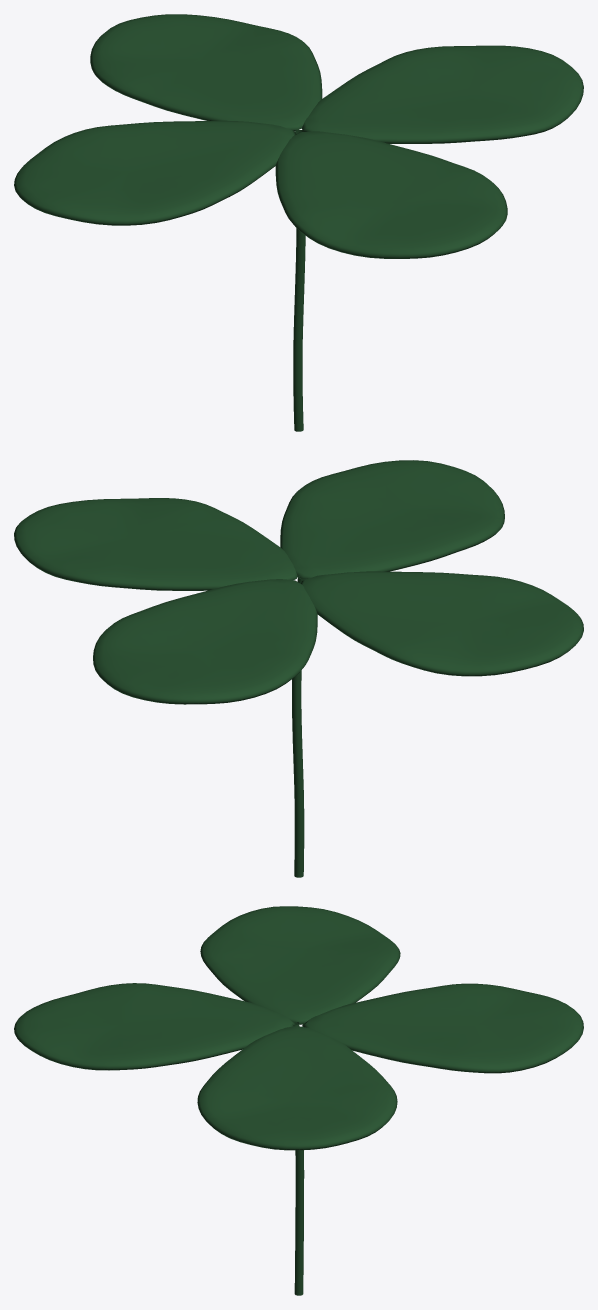
The model's file is Kleeblatt.fbx.
The picture shows the model from 3 angles, top to bottom: view 1: azimuth 30°, elevation 25°; view 2: azimuth 150°, elevation 25°; view 3: azimuth 270°, elevation 25°; orthographic projection. The views are drawn at different scales.
Visible parts, largest first — view 1: Circle, Plane; view 2: Circle, Plane; view 3: Circle, Plane.
Part boxes in pixels (left/top/right/bottom): Circle: left=14, top=14, right=583, bottom=258; Plane: left=293, top=130, right=305, bottom=431; Circle: left=14, top=460, right=583, bottom=704; Plane: left=292, top=575, right=307, bottom=877; Circle: left=14, top=906, right=583, bottom=1150; Plane: left=293, top=1021, right=304, bottom=1295.
Bounding box in the file's own units: 117 × 62.11 × 117.
